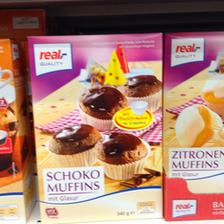Kuchen: (24, 31, 164, 219), (160, 27, 224, 217)
